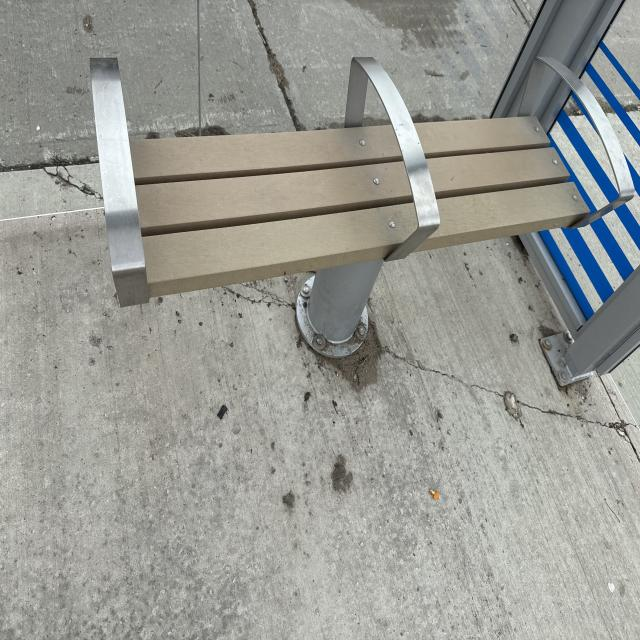Bench: (81, 24, 622, 362)
